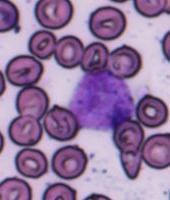E: (68, 70, 134, 130)
